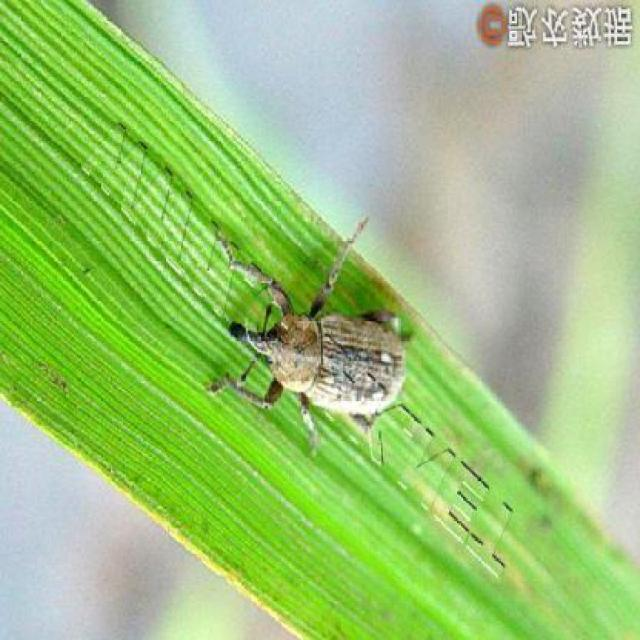rice-bug: (225, 241, 426, 436)
